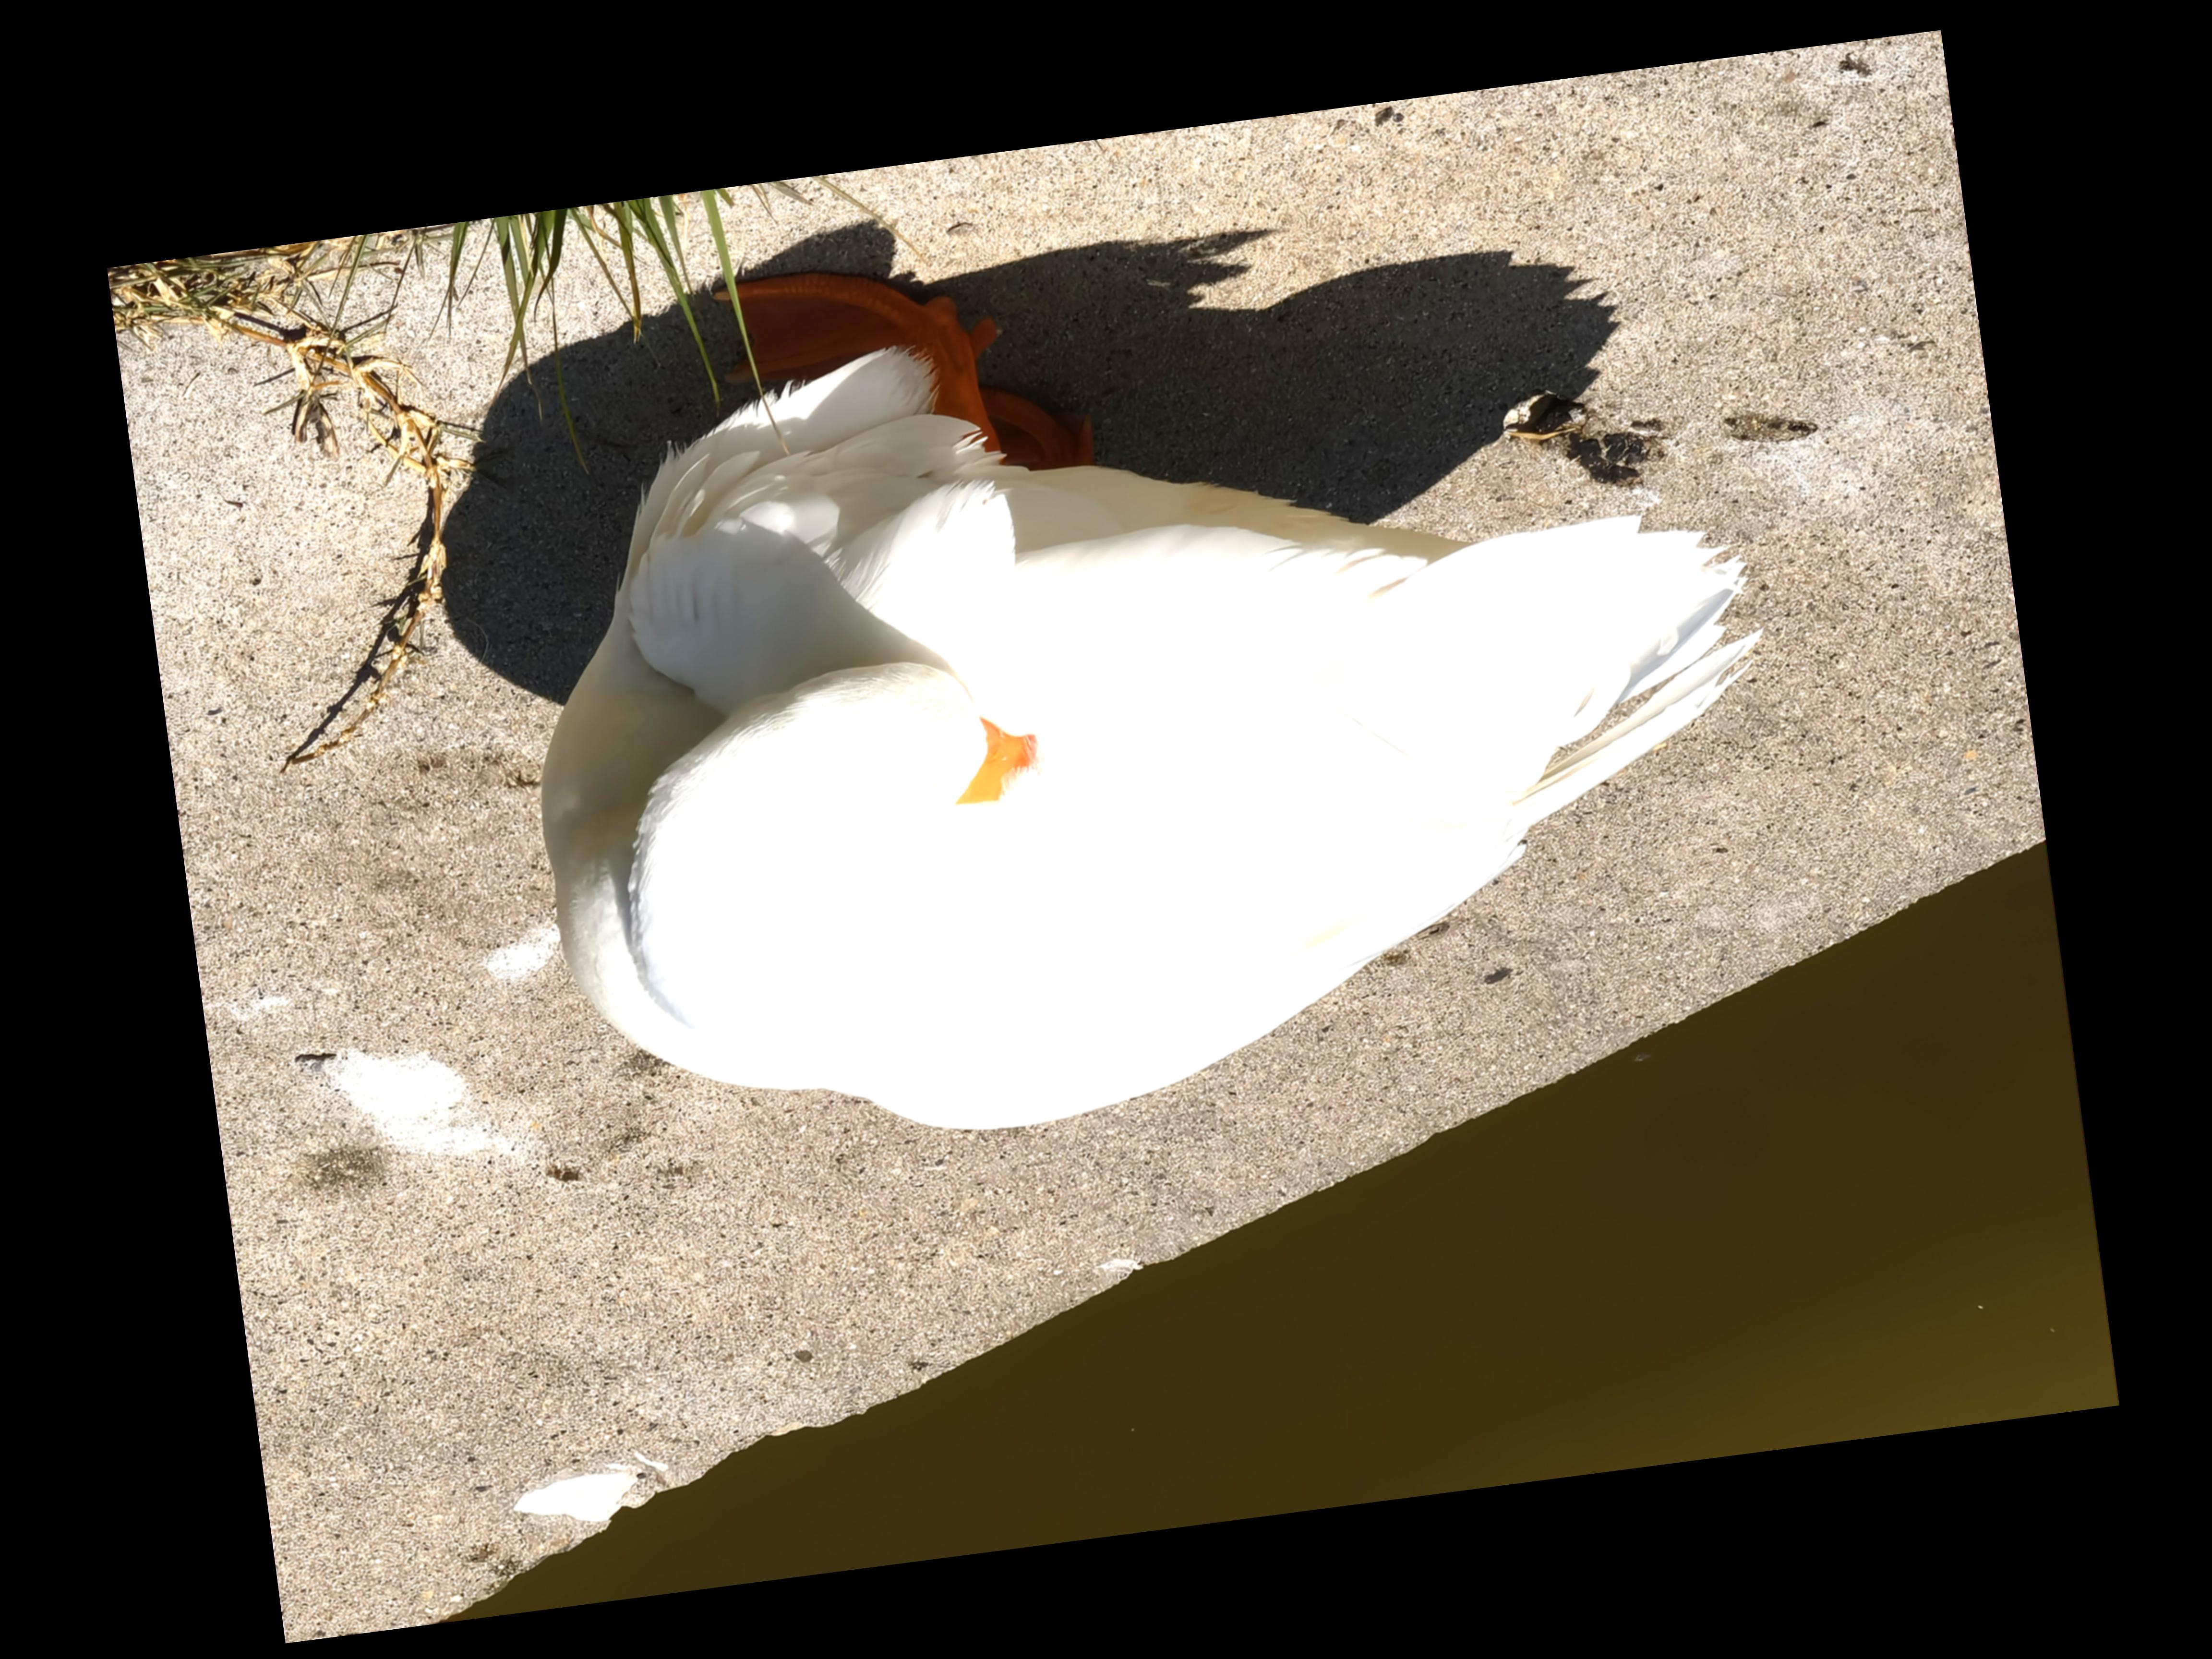duck: (439, 167, 1844, 1220)
